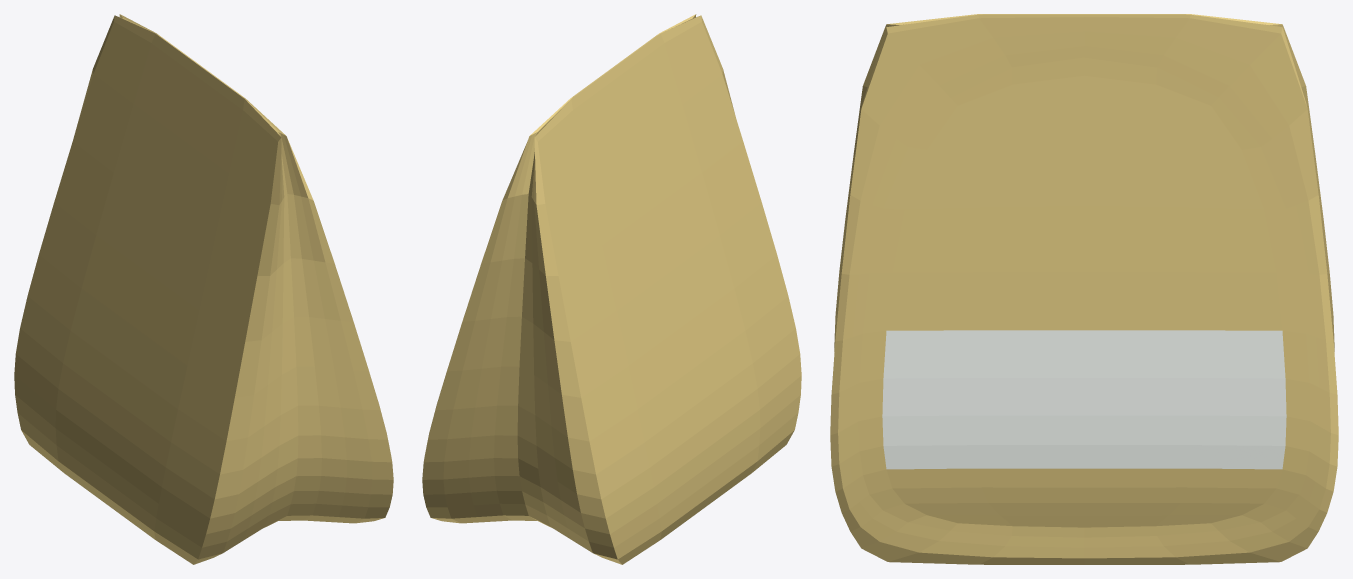
The model's file is FlourBag.fbx.
3 views of the same model, side by side, from view 1: azimuth 30°, elevation 25°; view 2: azimuth 150°, elevation 25°; view 3: azimuth 270°, elevation 25° (orthographic). The views are drawn at different scales.
Visible parts, largest first — view 1: Flour; view 2: Flour; view 3: Flour.
Boxes of the visible parts, box(x1,y1,x2,y2) form: Flour: box(14, 14, 393, 564); Flour: box(422, 14, 801, 564); Flour: box(830, 14, 1338, 564).
Size of the model in its own units: 40.12 by 85.84 by 79.43.
